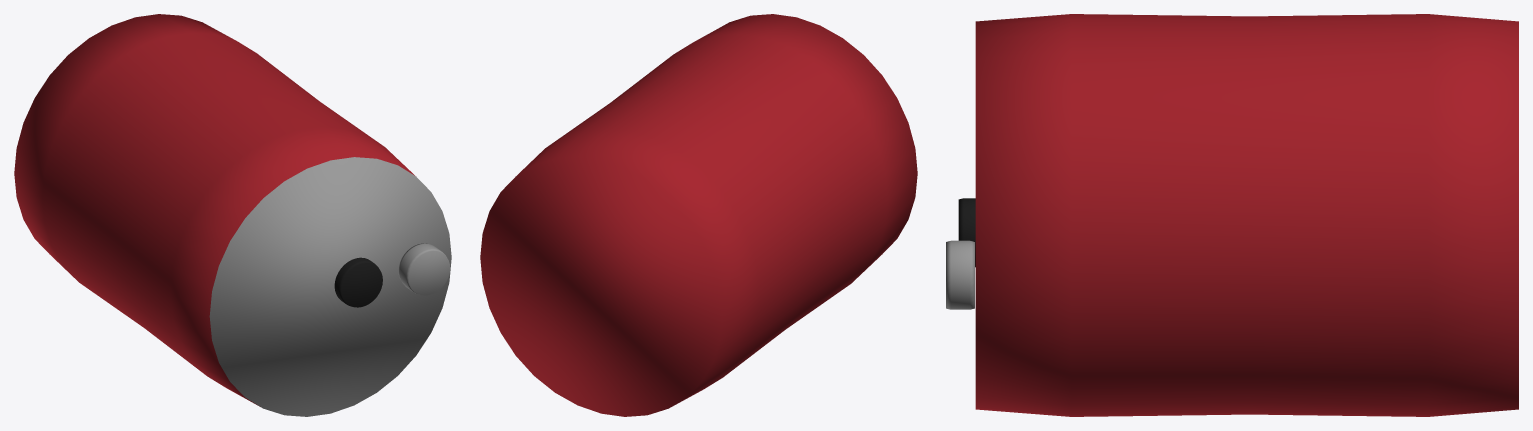
The model's file is fuel.glb.
3 views of the same model, side by side, from view 1: azimuth 30°, elevation 25°; view 2: azimuth 150°, elevation 25°; view 3: azimuth 270°, elevation 25° (orthographic). The views are drawn at different scales.
Parts seen in each view (by area): view 1: Cylinder, Cylinder.001, Cylinder.002; view 2: Cylinder; view 3: Cylinder, Cylinder.001, Cylinder.002.
Part boxes in pixels (x1,y1,x2,y2): Cylinder: [14, 14, 451, 416]; Cylinder.001: [398, 243, 450, 295]; Cylinder.002: [334, 257, 382, 307]; Cylinder: [480, 14, 917, 416]; Cylinder: [975, 14, 1518, 416]; Cylinder.001: [946, 240, 974, 309]; Cylinder.002: [958, 198, 975, 267].
Size of the model in its own units: 0.3181 by 0.3181 by 0.4518.
